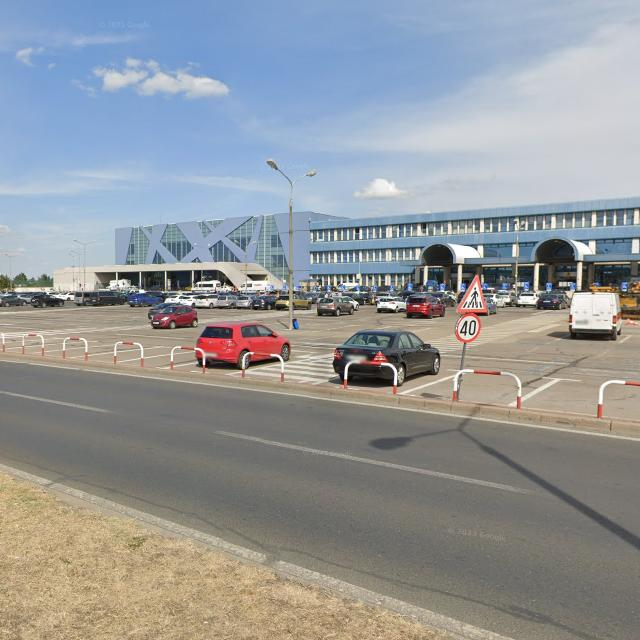forb_speed_over_40: (455, 312, 481, 342)
warn_crosswalk: (456, 273, 488, 313)
